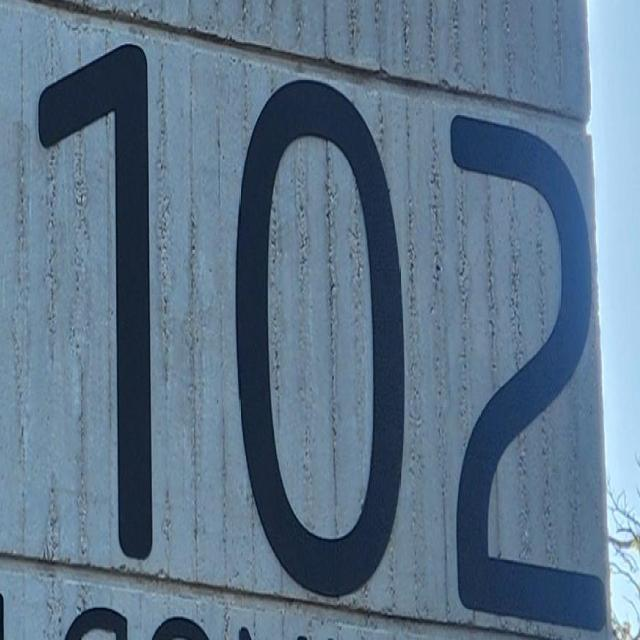character: (233, 70, 407, 610), (446, 110, 611, 638), (34, 39, 159, 573)
